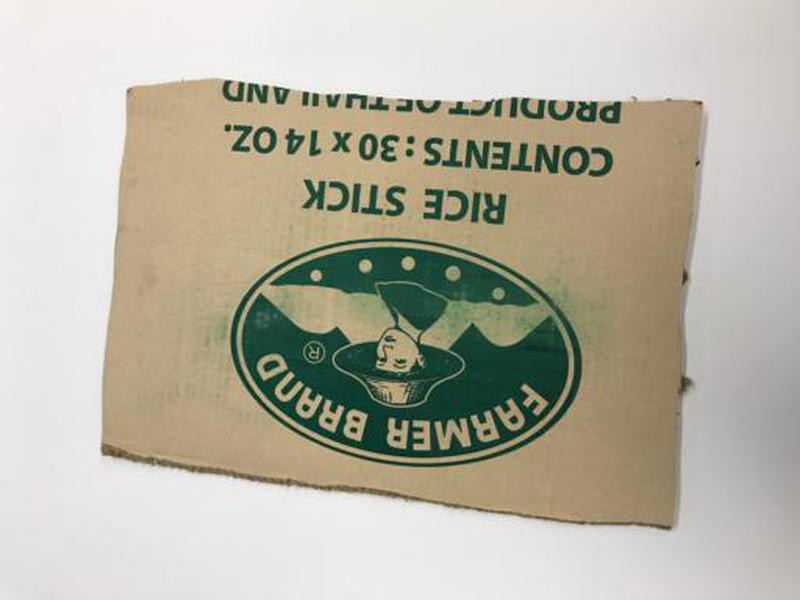cardboard: (95, 76, 712, 544)
